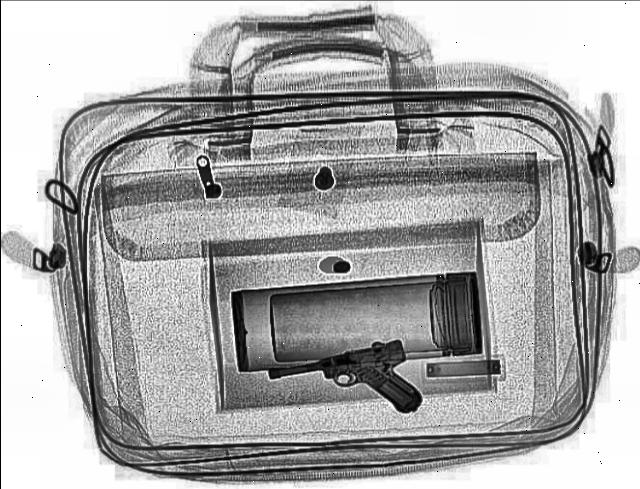Gun: (265, 334, 433, 436)
